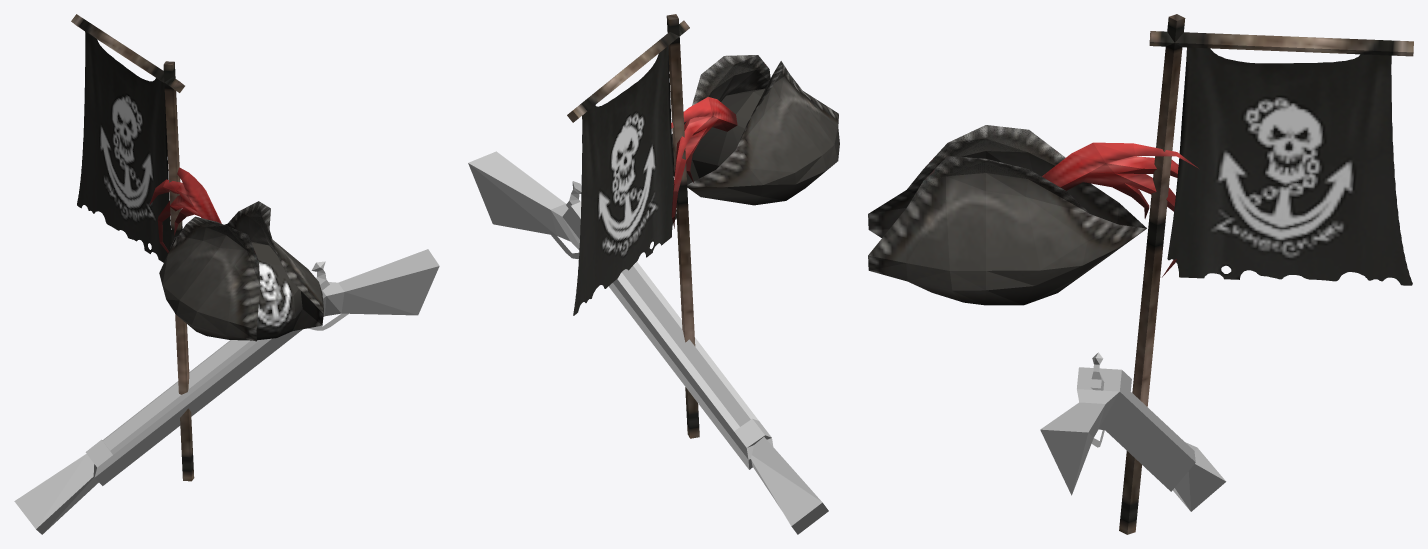
File: M_Pirate_01_Leader_ETC.FBX
3 renders of one model, left to right at view 1: azimuth 30°, elevation 25°; view 2: azimuth 150°, elevation 25°; view 3: azimuth 270°, elevation 25°, orthographic. The views are drawn at different scales.
Visible parts, largest first — view 1: Pirate01_Leader_Flag, Pirate01_Leader_Cap, Pirate01_Leader_Back; view 2: Pirate01_Leader_Flag, Pirate01_Leader_Cap, Pirate01_Leader_Back; view 3: Pirate01_Leader_Flag, Pirate01_Leader_Cap, Pirate01_Leader_Back.
Part boxes in pixels (x1,y1,x2,y2): Pirate01_Leader_Flag: (71,14,194,481); Pirate01_Leader_Cap: (149,167,323,341); Pirate01_Leader_Back: (14,249,439,534); Pirate01_Leader_Flag: (567,14,699,438); Pirate01_Leader_Cap: (671,55,839,228); Pirate01_Leader_Back: (468,151,828,534); Pirate01_Leader_Flag: (1119,14,1413,534); Pirate01_Leader_Cap: (868,125,1198,305); Pirate01_Leader_Back: (1040,352,1226,511).
Size of the model in its own units: 1.94 by 2.23 by 1.93.
